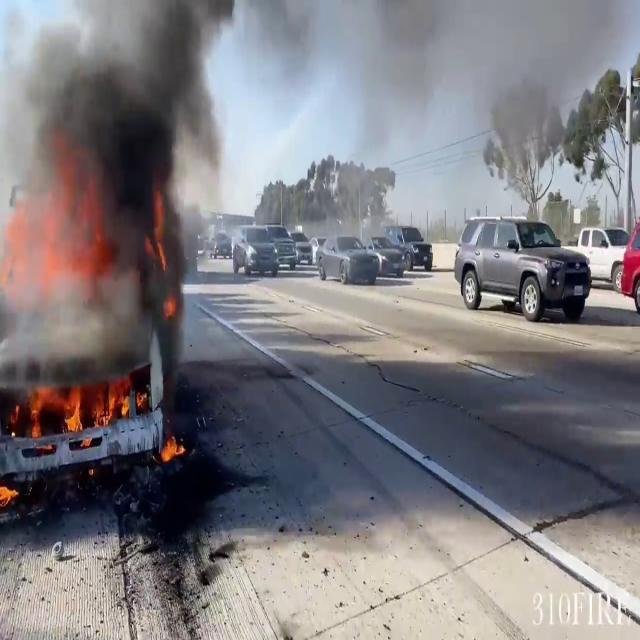Fire: (17, 370, 138, 440), (160, 434, 188, 472)
Smoke: (0, 0, 236, 358), (329, 0, 627, 213)
